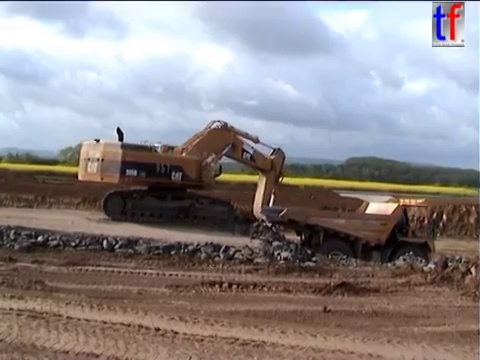excavator: (75, 117, 289, 254)
truck: (258, 195, 438, 284)
